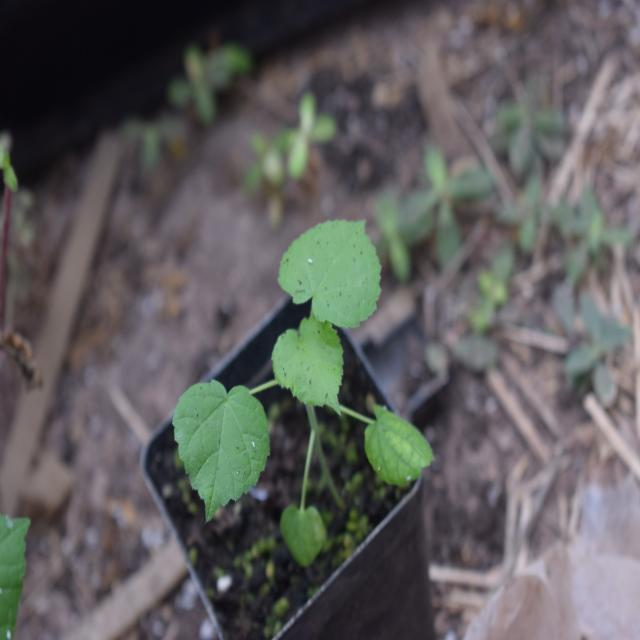abutilon theophrasti: (158, 200, 413, 524)
